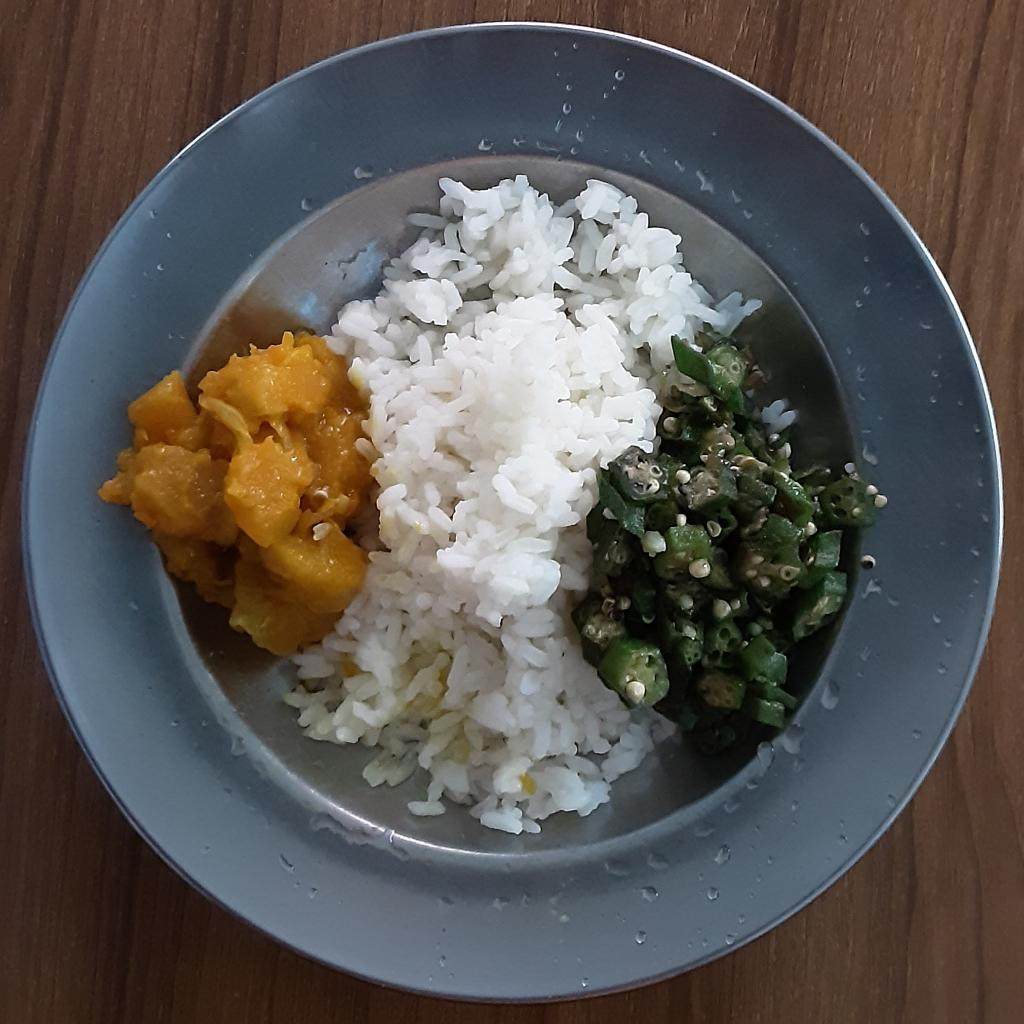kumra-vaji: (98, 328, 368, 659)
okra: (580, 335, 878, 754)
rice: (283, 173, 768, 838)
